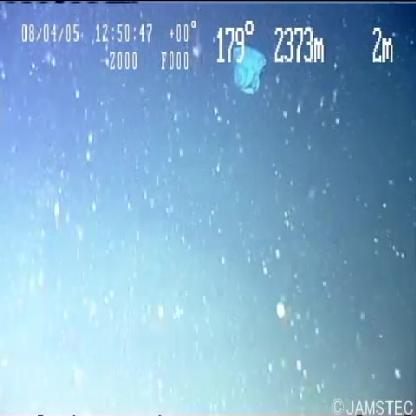Rác: (226, 38, 274, 108)
